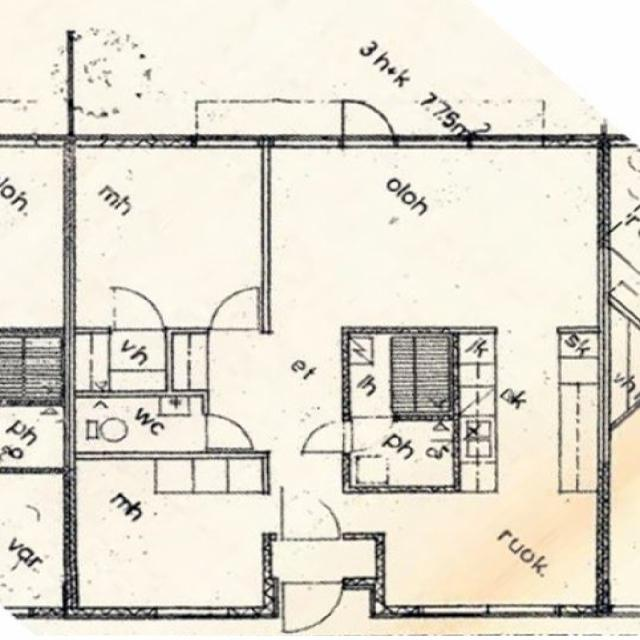door: (283, 578, 342, 640), (282, 482, 340, 539), (343, 91, 392, 146), (114, 285, 164, 334), (212, 286, 260, 334), (202, 414, 248, 449), (354, 414, 393, 454), (308, 422, 350, 452)
